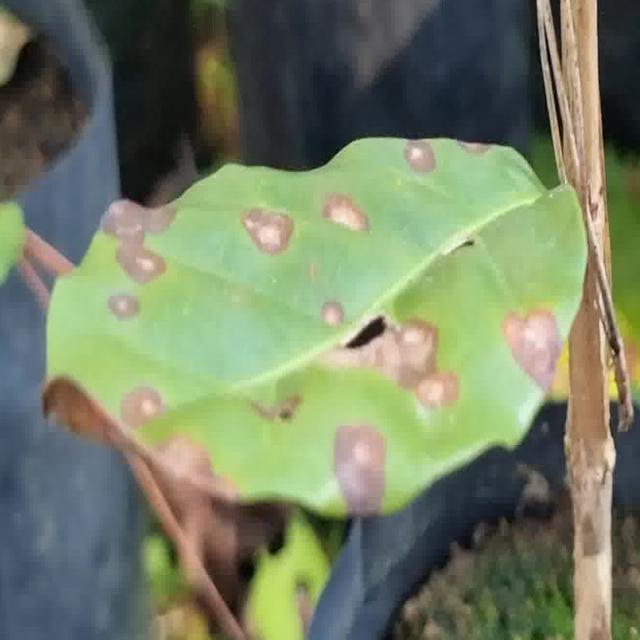leaves: (44, 132, 588, 518)
